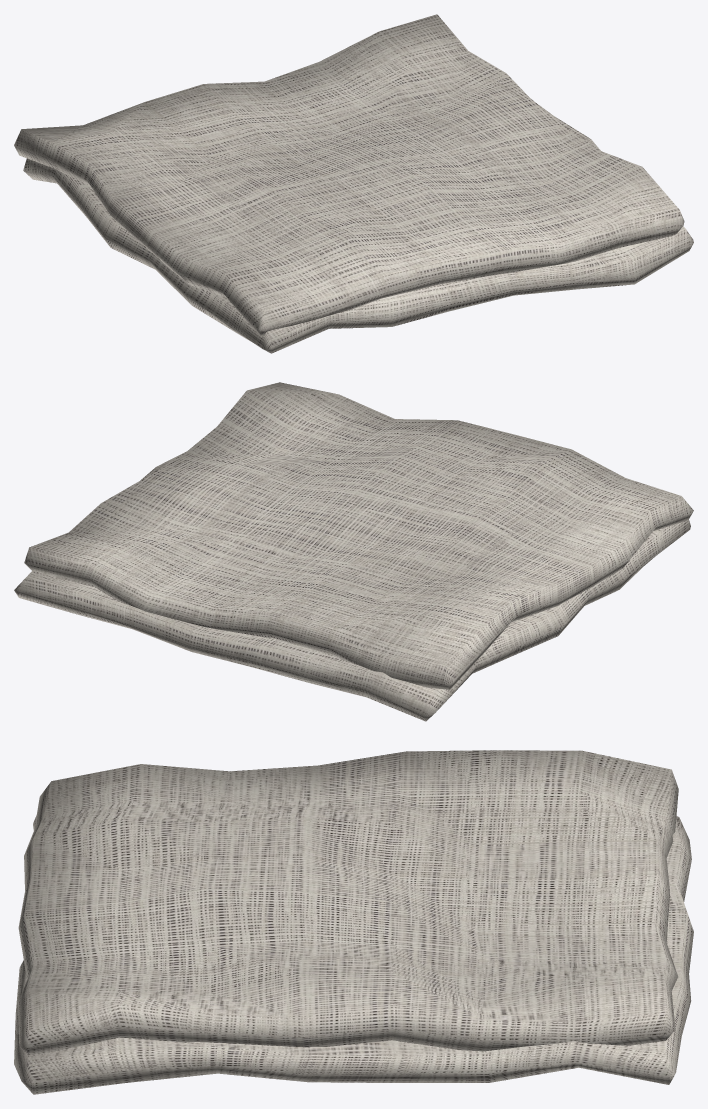
File: marlya.FBX
3 renders of one model, top to bottom at view 1: azimuth 30°, elevation 25°; view 2: azimuth 150°, elevation 25°; view 3: azimuth 270°, elevation 25°, orthographic. The views are drawn at different scales.
Parts seen in each view (by area): view 1: marlya; view 2: marlya; view 3: marlya.
Boxes of the visible parts, x1=… form: marlya: x1=14, y1=14, x2=693, y2=353; marlya: x1=14, y1=382, x2=693, y2=721; marlya: x1=14, y1=750, x2=693, y2=1094.
Bounding box in the file's own units: 0.1473 × 0.0248 × 0.1481.
